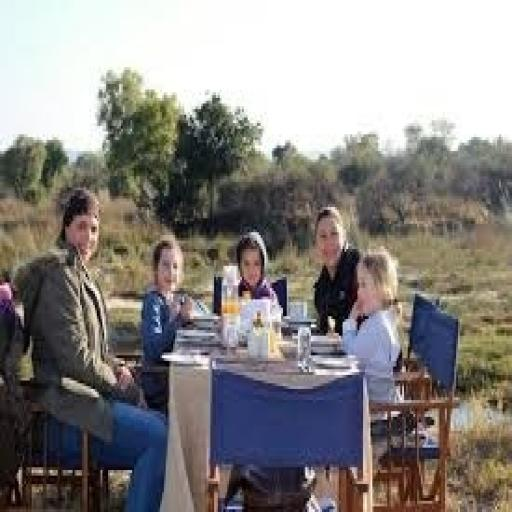sitting: (7, 179, 419, 506), (11, 182, 170, 509)
